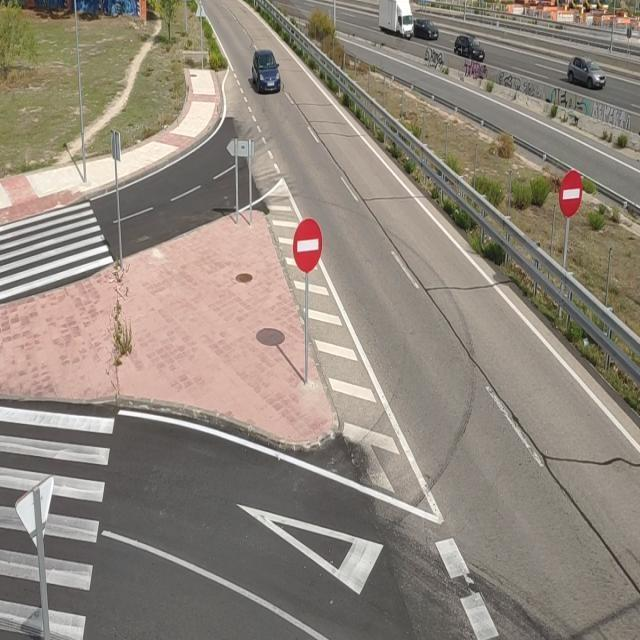Car: (239, 32, 305, 116), (551, 44, 613, 98), (451, 30, 499, 74)
Truck: (363, 1, 417, 39)
